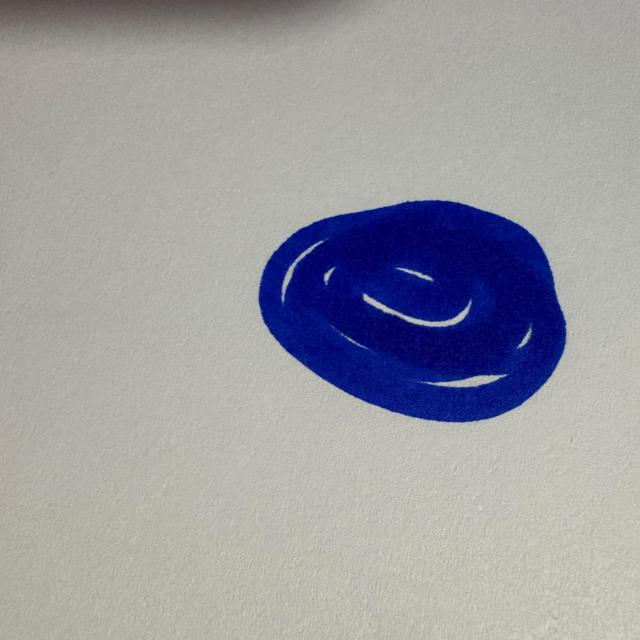Circle: (255, 195, 573, 426)
